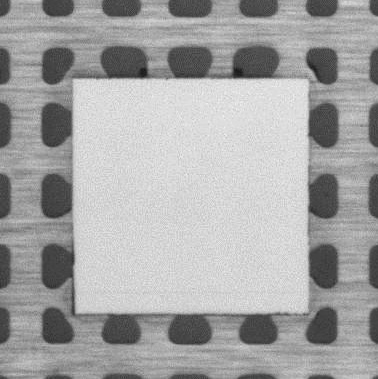DIE_CRACK: (100, 286, 301, 298)
